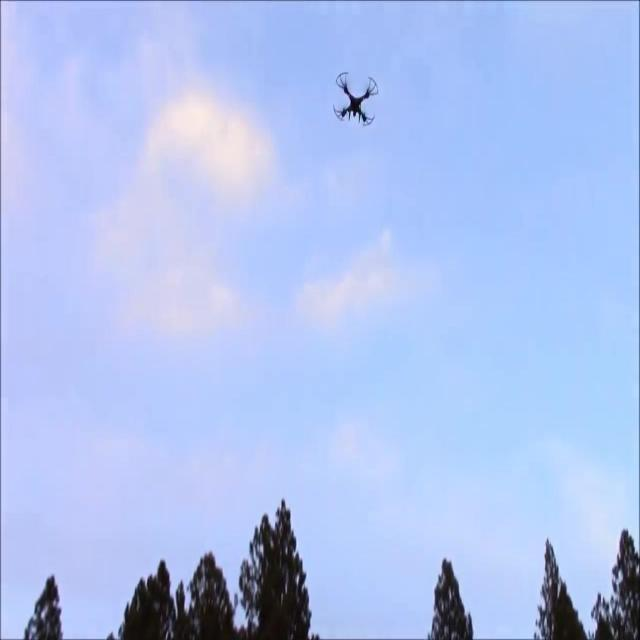UAV: (333, 72, 379, 126)
